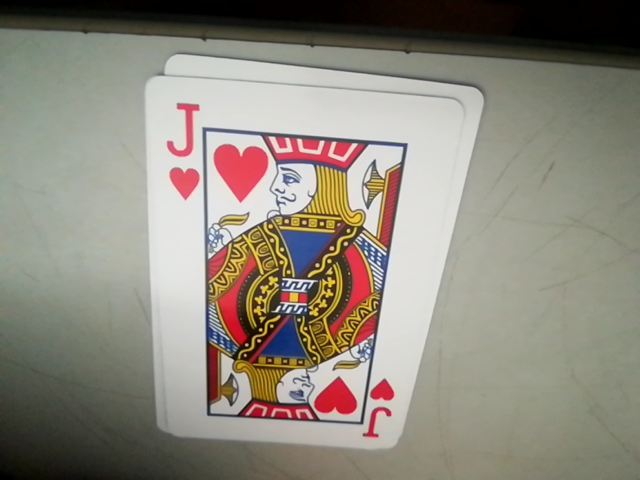hx j: (164, 100, 200, 200), (360, 379, 397, 443)
